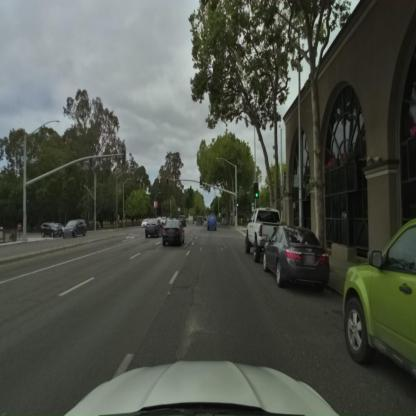car: (341, 211, 415, 411), (263, 226, 331, 290), (245, 209, 283, 259), (162, 221, 184, 247), (64, 219, 87, 239), (40, 223, 64, 238), (144, 221, 160, 236)
traffic light: (255, 190, 260, 199)
